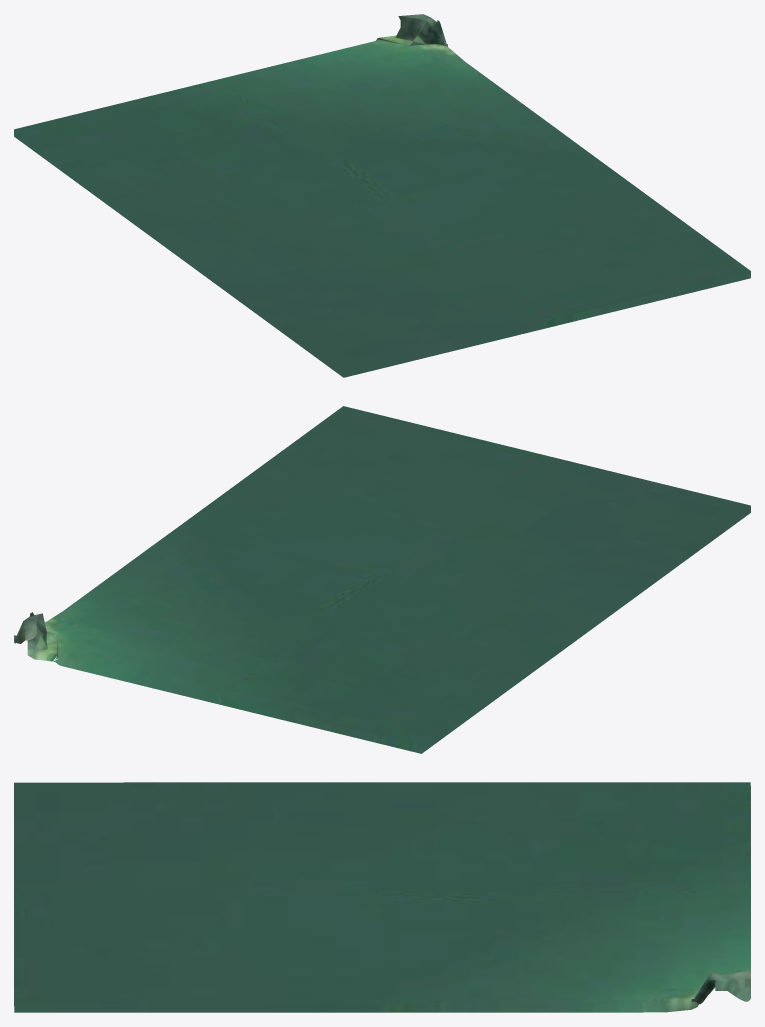
3 renders of one model, top to bottom at view 1: azimuth 30°, elevation 25°; view 2: azimuth 150°, elevation 25°; view 3: azimuth 270°, elevation 25°, orthographic. The views are drawn at different scales.
Visible parts, largest first — view 1: 3043627270437063570_0; view 2: 3043627270437063570_0; view 3: 3043627270437063570_0.
Part boxes in pixels (x1,y1,x2,y2): 3043627270437063570_0: (14, 14, 750, 377); 3043627270437063570_0: (14, 406, 750, 753); 3043627270437063570_0: (14, 782, 750, 1012).
Size of the model in its own units: 54.64 by 4.04 by 76.53.
Materials: 1 (1 with a texture image).
